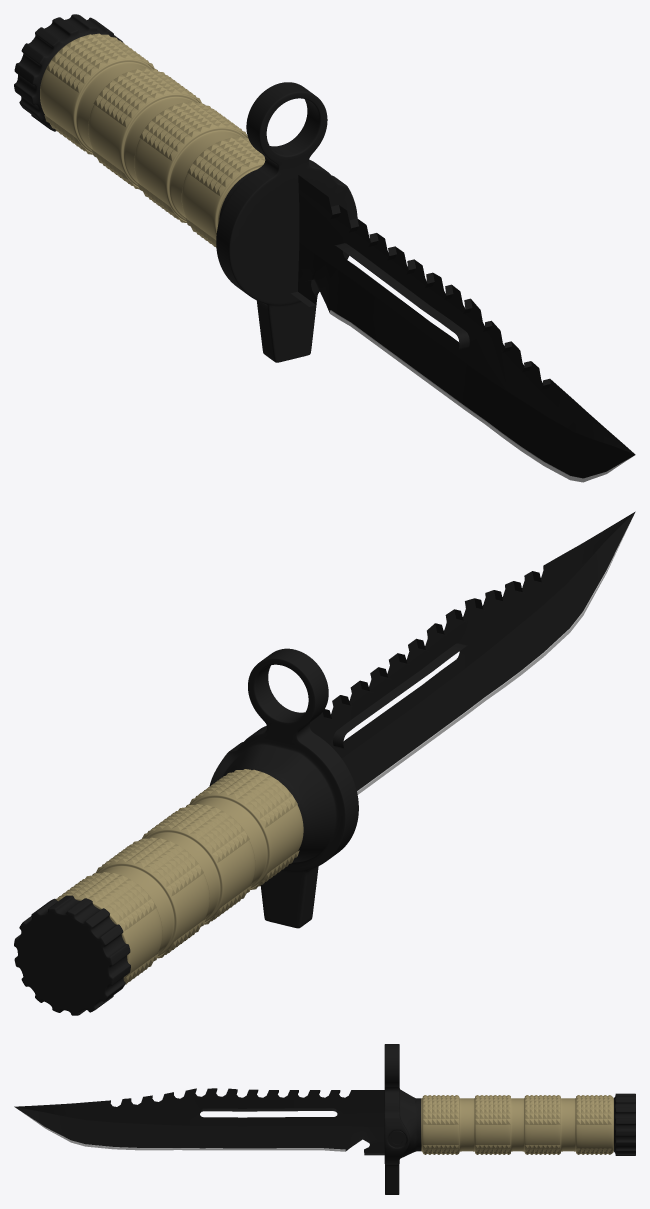
The model's file is knifer.fbx.
3 renders of one model, top to bottom at view 1: azimuth 30°, elevation 25°; view 2: azimuth 150°, elevation 25°; view 3: azimuth 270°, elevation 25°, orthographic. The views are drawn at different scales.
Parts seen in each view (by area): view 1: Circle, Circle.002, Circle.006; view 2: Circle, Circle.002, Circle.006; view 3: Circle.002, Circle, Circle.006, Circle.001.
Boxes of the visible parts, box(x1,y1,x2,y2) form: Circle: box(14, 14, 357, 362); Circle.002: box(291, 175, 635, 482); Circle.006: box(44, 33, 265, 247); Circle: box(14, 648, 358, 1015); Circle.002: box(309, 511, 635, 794); Circle.006: box(56, 769, 299, 984); Circle.002: box(14, 1088, 384, 1155); Circle: box(384, 1044, 635, 1194); Circle.006: box(423, 1095, 611, 1154); Circle.001: box(388, 1130, 406, 1147).
Size of the model in its own units: 63.6 by 126 by 491.
